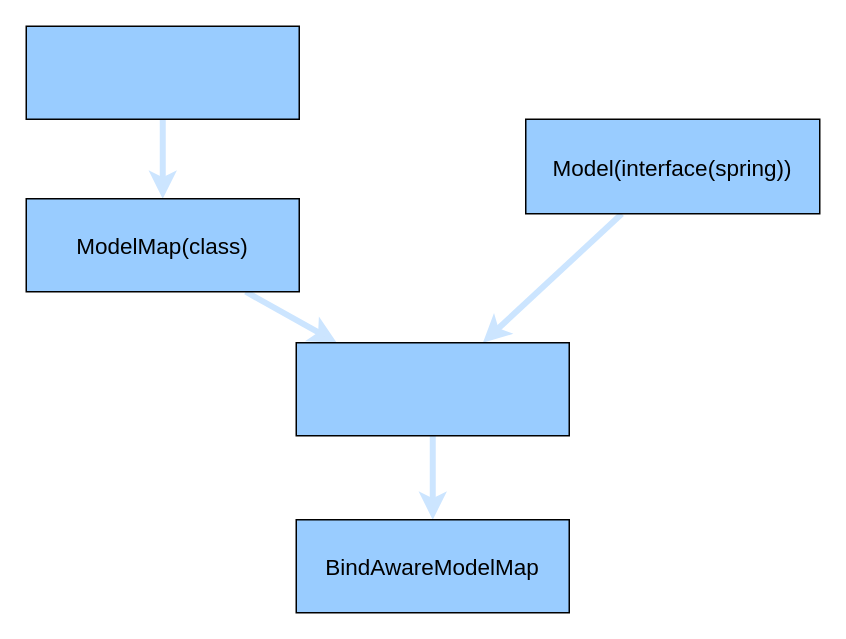
Image size: 846x639. Some labels were removed from this diagram. Each missing label, with the box of its shape:
ExtendModelMap: (295, 341, 569, 436)
Map(interface(JDK)): (25, 25, 299, 119)
